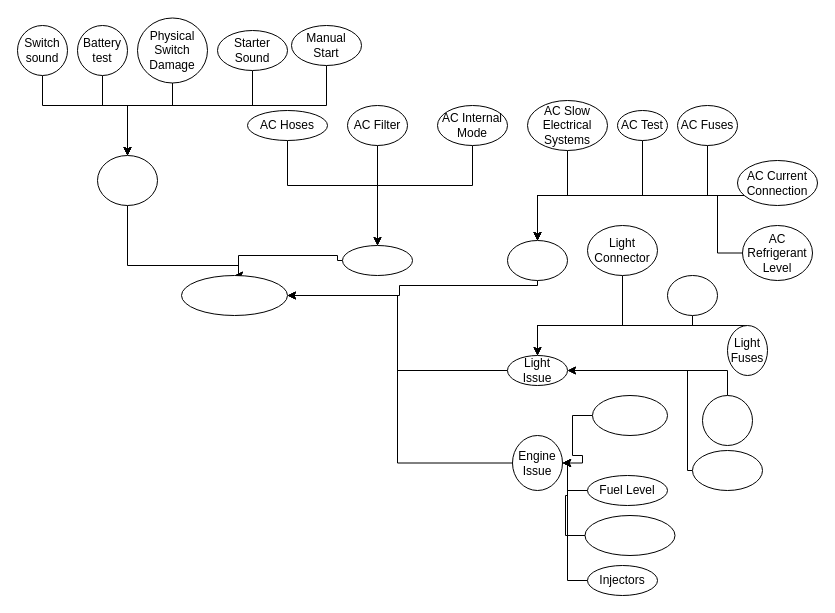
This 835x613 diagram has some shape labels left out. The centre of each missing label's shape, as x and y in pixels:
"AC Hot Air" belongs at pixel 537 260.
"AC Odors" belongs at pixel 377 260.
"Car diagnostic" belongs at pixel 234 295.
"Engine Hoses" belongs at pixel 629 535.
"Ignition Coil" belongs at pixel 630 415.
"Light Battery" belongs at pixel 727 420.
"Light Bulbs" belongs at pixel 727 470.
"Light Switch" belongs at pixel 692 295.
"Starting problems" belongs at pixel 127 180.
